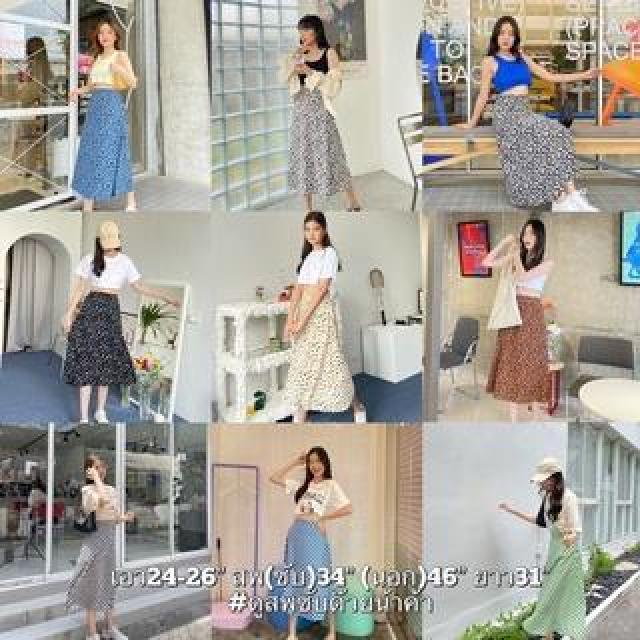skirt: (495, 94, 583, 206), (488, 298, 564, 416), (285, 292, 355, 420), (67, 88, 141, 208), (279, 94, 351, 200), (533, 534, 599, 640), (63, 297, 131, 397), (74, 516, 122, 618)
